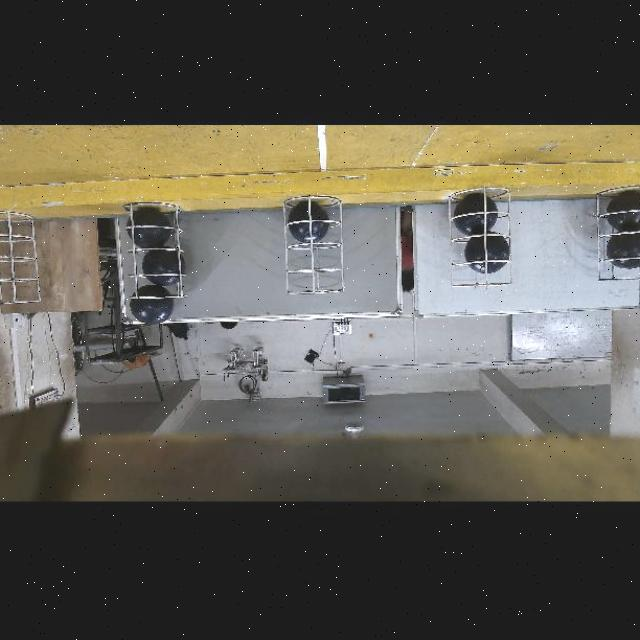P: (464, 232, 510, 275), (453, 194, 498, 237), (288, 201, 330, 245), (130, 285, 175, 326), (127, 208, 171, 249), (142, 251, 186, 287), (606, 229, 640, 270), (606, 192, 640, 231)
S: (443, 191, 513, 291), (124, 200, 188, 302), (284, 197, 344, 296), (0, 211, 42, 311), (598, 191, 640, 281)
